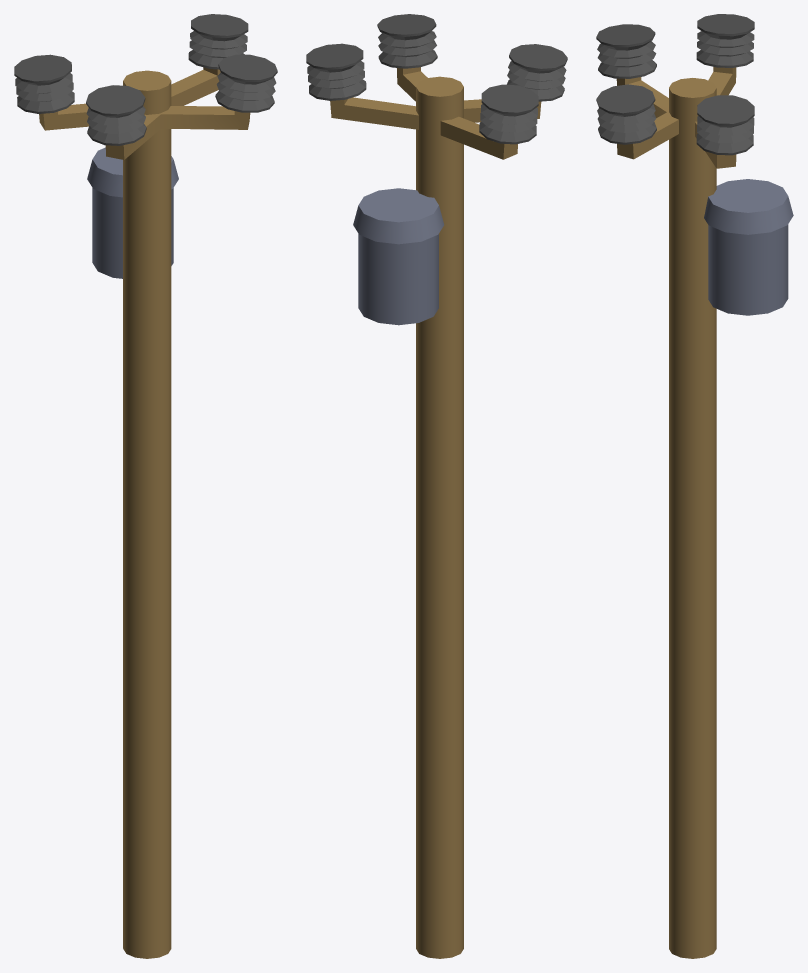
The model's file is Telephone_Pole.FBX.
3 renders of one model, left to right at view 1: azimuth 30°, elevation 25°; view 2: azimuth 150°, elevation 25°; view 3: azimuth 270°, elevation 25°, orthographic.
Parts seen in each view (by area): view 1: Cylinder003; view 2: Cylinder003; view 3: Cylinder003.
Boxes of the visible parts, x1,y1,x2,y2 form: Cylinder003: (14,14,277,958); Cylinder003: (306,14,567,958); Cylinder003: (596,14,793,958).
Size of the model in its own units: 47.11 by 177 by 35.83.
Materials: 1 (1 with a texture image).
